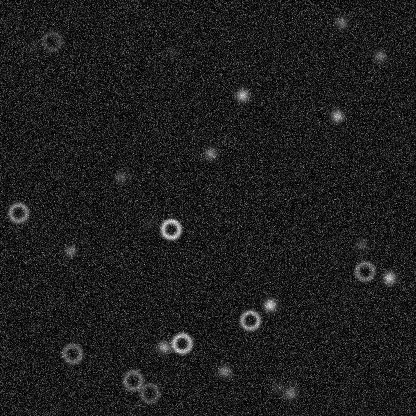Ring: (6, 200, 30, 224), (137, 381, 161, 405), (120, 368, 144, 392), (158, 217, 182, 241), (238, 308, 262, 332), (352, 259, 376, 283), (39, 29, 63, 53), (60, 341, 84, 365), (169, 331, 193, 355)
Spot: (371, 47, 387, 63), (216, 363, 232, 379), (202, 145, 218, 161), (62, 243, 78, 259), (261, 296, 277, 312), (381, 269, 397, 285), (269, 379, 285, 395), (282, 384, 298, 400), (353, 236, 369, 252), (234, 87, 250, 103), (112, 169, 128, 185), (155, 338, 171, 354), (163, 43, 179, 59), (24, 37, 40, 53), (140, 215, 156, 231), (333, 14, 349, 30), (329, 107, 345, 123)
